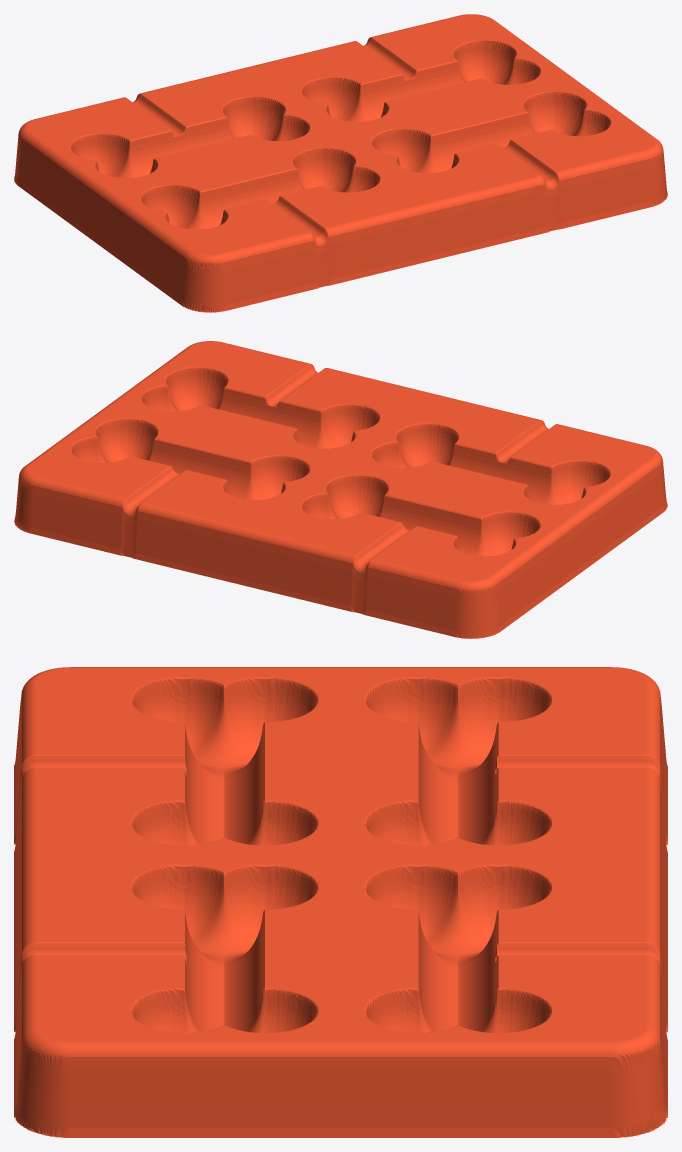
File: mold.glb
The picture shows the model from 3 angles, top to bottom: view 1: azimuth 30°, elevation 25°; view 2: azimuth 150°, elevation 25°; view 3: azimuth 270°, elevation 25°; orthographic projection. The views are drawn at different scales.
Visible parts, largest first — view 1: geometry_0; view 2: geometry_0; view 3: geometry_0.
Part boxes in pixels (x1,y1,x2,y2): geometry_0: (14,14,667,312); geometry_0: (14,341,667,638); geometry_0: (14,667,667,1137).
Bounding box in the file's own units: 0.1497 × 0.0155 × 0.1056.
